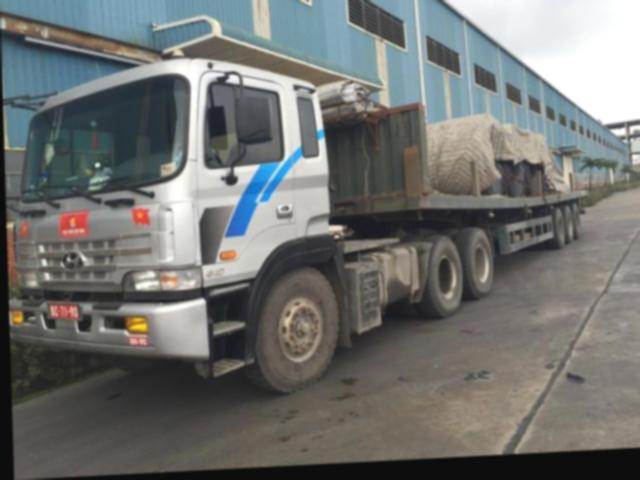License_Plate: (47, 300, 82, 322)
